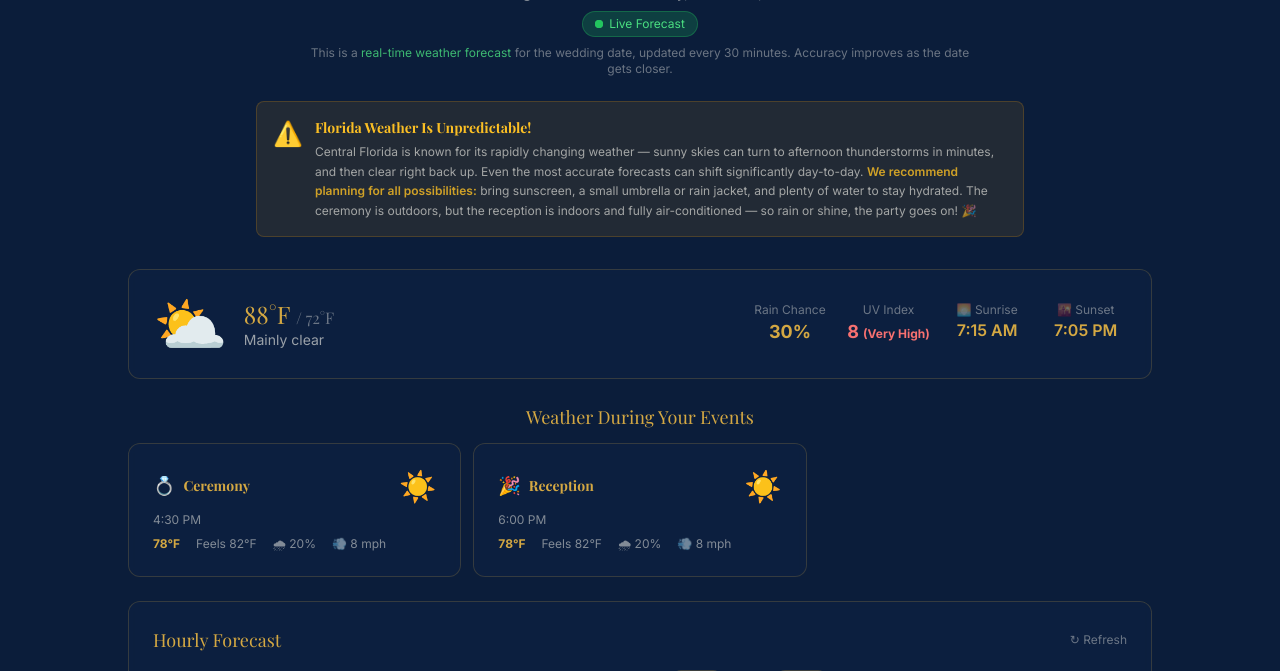
Test: WeatherForecast › clicking close button hides detail panel
Click the text "Ceremony" at (217, 486), box [184,476,250,496]
(page scrolled)
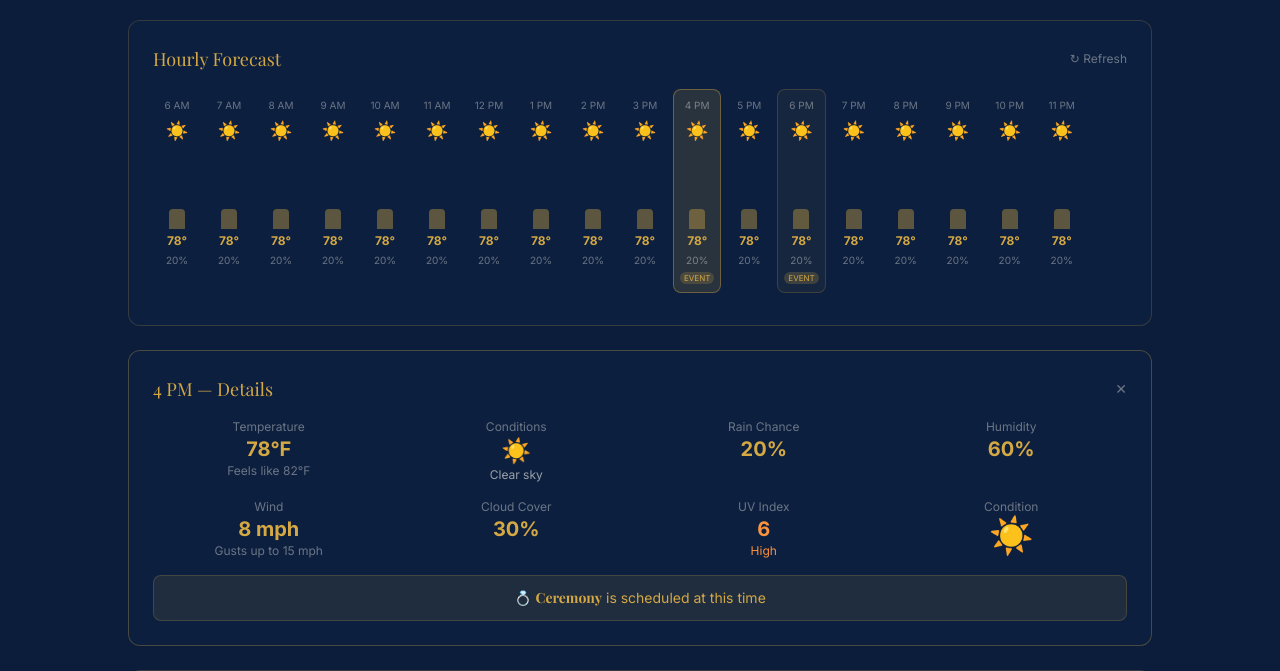
Expected: the button "✕" is shown
Click the button "✕" at (1121, 389), box [1115,379,1127,399]
(page scrolled)
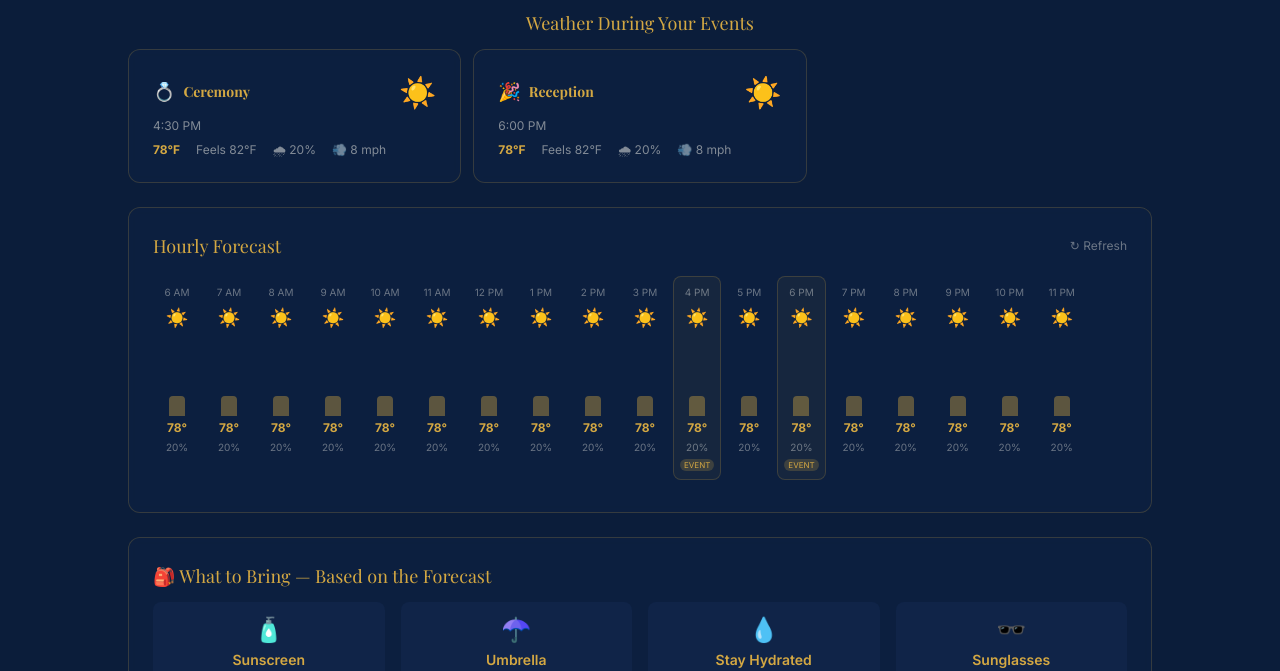
Expected: the heading "— Details" is gone
